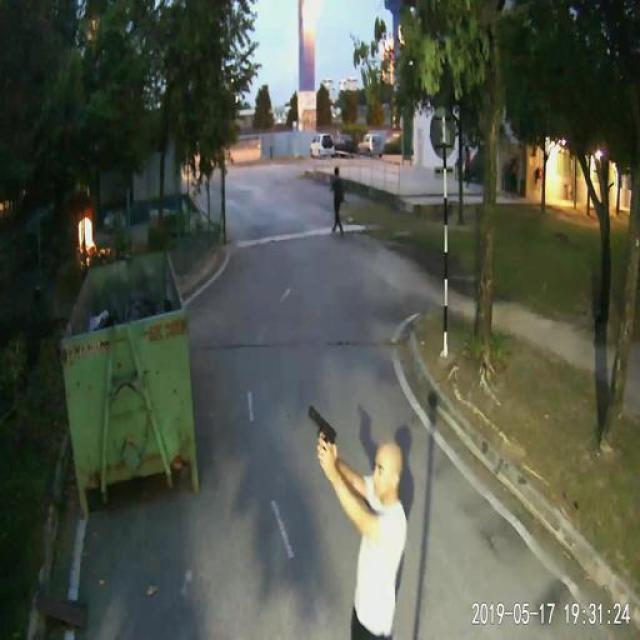Gun: (298, 398, 342, 453)
